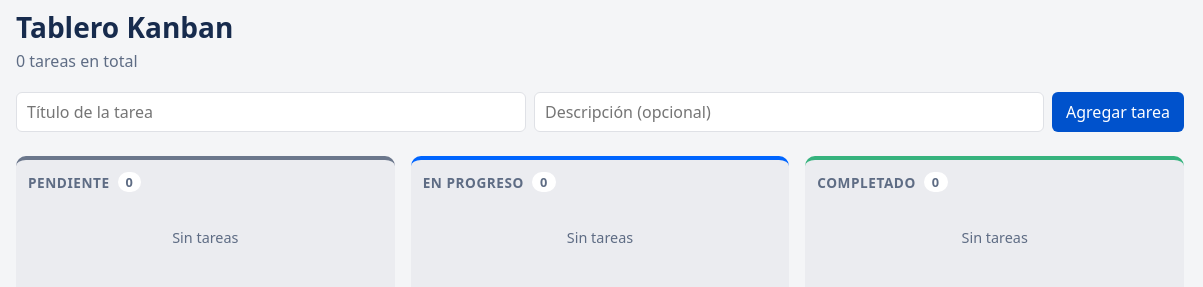
Test: App Kanban › muestra un error si el título está vacío
Click the button "Agregar tarea" at (1118, 112), box [1052, 92, 1184, 132]
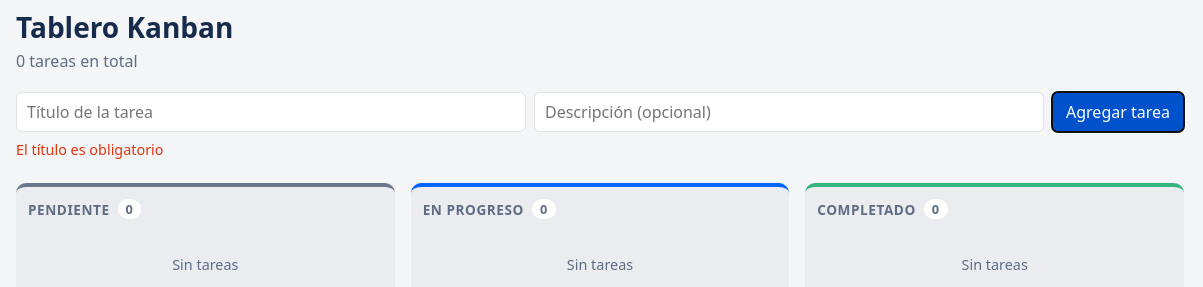
Result: the message reads "El título es obligatorio" at [16, 140, 164, 159]
